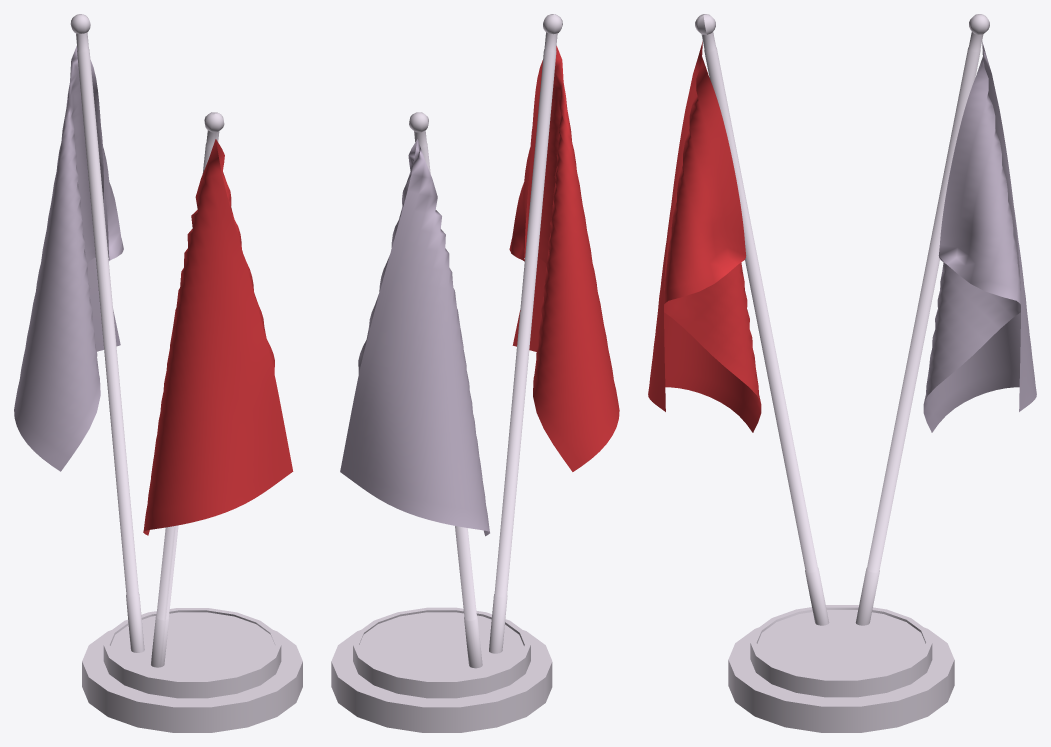
File: Drapeaux.glb
The picture shows the model from 3 angles, left to right: view 1: azimuth 30°, elevation 25°; view 2: azimuth 150°, elevation 25°; view 3: azimuth 270°, elevation 25°; orthographic projection. The views are drawn at different scales.
Visible parts, largest first — view 1: Plane, Plane.001, Cylinder, Cylinder.003, Cylinder.001; view 2: Plane.001, Plane, Cylinder, Cylinder.001, Cylinder.003; view 3: Plane, Plane.001, Cylinder, Cylinder.001, Cylinder.003.
Boxes of the visible parts, x1,y1,x2,y2 form: Plane: (143,139,293,535); Plane.001: (14,46,123,471); Cylinder: (82,608,302,732); Cylinder.003: (76,32,144,652); Cylinder.001: (151,130,219,667); Plane.001: (340,139,489,536); Plane: (509,46,619,471); Cylinder: (331,607,552,732); Cylinder.001: (489,32,557,653); Cylinder.003: (414,130,482,668); Plane: (648,41,761,432); Plane.001: (923,41,1036,432); Cylinder: (728,605,954,732); Cylinder.001: (701,32,829,625); Cylinder.003: (855,32,983,625).
Size of the model in its own units: 2.1 by 6.33 by 3.44.
